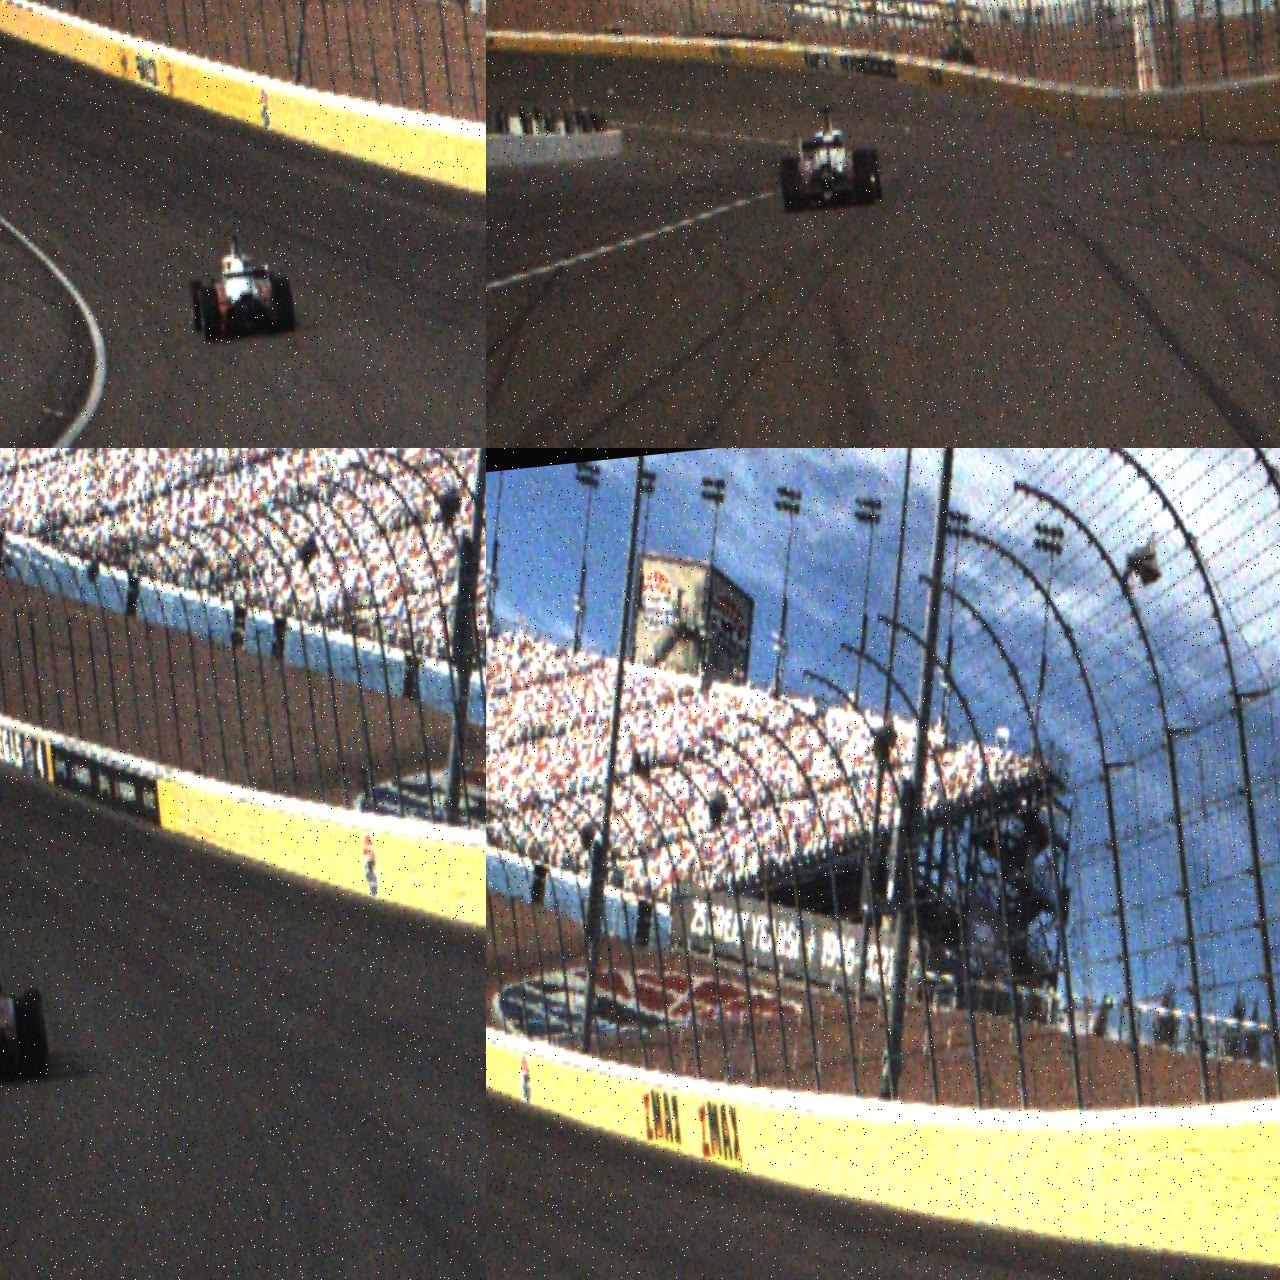AV: (183, 226, 298, 346), (772, 101, 884, 215), (0, 921, 52, 1094)
Wheel: (12, 994, 50, 1081), (273, 275, 298, 334), (778, 156, 803, 215), (198, 287, 223, 343), (852, 150, 877, 206), (188, 278, 209, 333)
